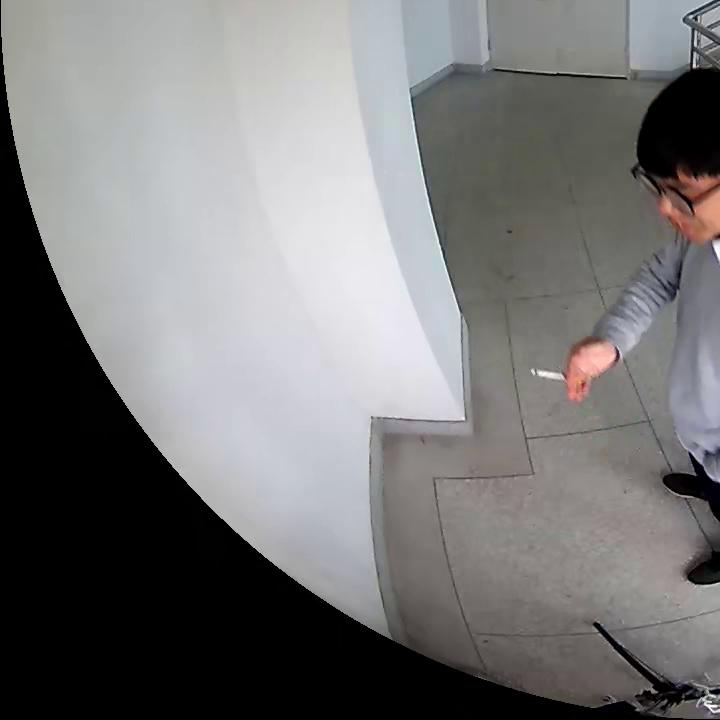handsmoke: (529, 340, 603, 404)
mouthwithoutsmoke: (634, 67, 719, 241)
